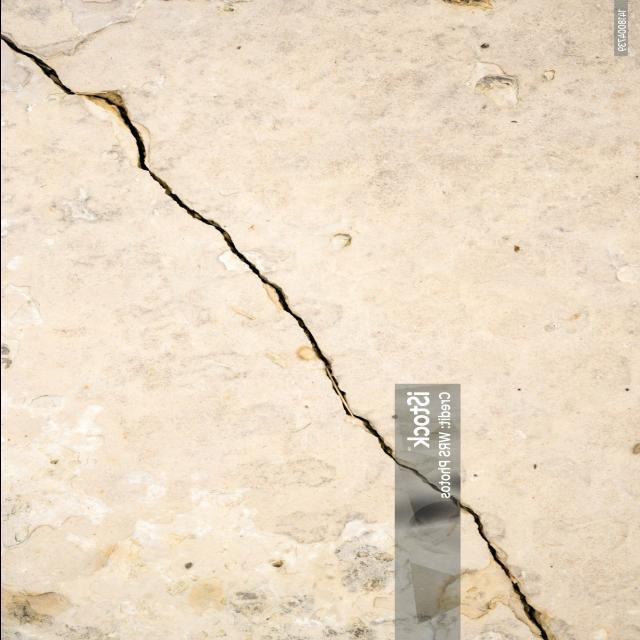crack: (0, 10, 589, 640), (2, 27, 550, 637), (55, 68, 322, 384), (8, 31, 156, 189), (126, 479, 266, 564), (3, 473, 111, 556), (58, 404, 109, 462), (11, 29, 93, 58), (6, 288, 44, 329), (131, 518, 174, 548), (606, 250, 640, 284), (30, 394, 65, 408)
dampens: (9, 600, 42, 624)
dampness: (9, 159, 640, 251)
